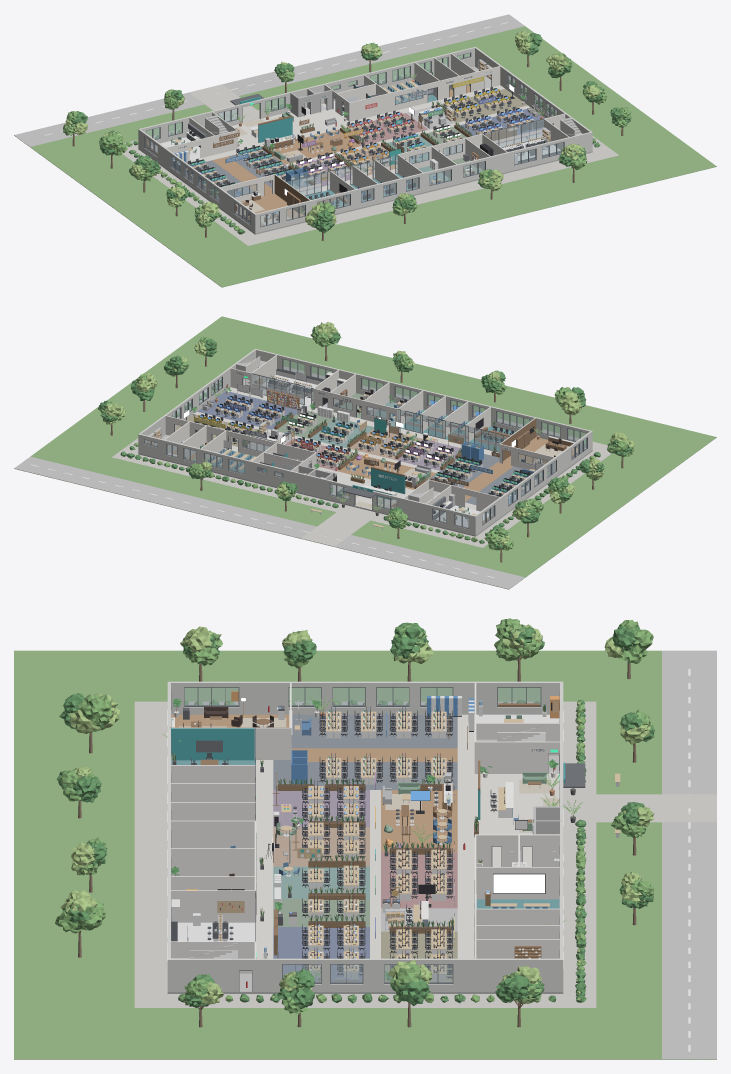
Rendered from office.glb.
3 renders of one model, top to bottom at view 1: azimuth 30°, elevation 25°; view 2: azimuth 150°, elevation 25°; view 3: azimuth 270°, elevation 25°, orthographic. The views are drawn at different scales.
Visible parts, largest first — view 1: Site_grass, Exterior_Walls_wall_ext, Site_concrete, Site_paving, Exterior_Walls_glass, Site_tree_dark, Floor_floor_polished, Site_tree_light, Site_tree_mid, Exterior_Walls_frame, Partitions_wall, Floor_wood_floor (+26 smaller); view 2: Site_grass, Exterior_Walls_wall_ext, Site_concrete, Site_paving, Site_tree_dark, Exterior_Walls_glass, Partitions_wall, Site_tree_mid, Site_tree_light, Exterior_Walls_frame, Floor_floor_polished, Floor_wood_floor (+26 smaller); view 3: Site_grass, Site_paving, Site_concrete, Exterior_Walls_wall_ext, Partitions_wall, Floor_floor_polished, Site_tree_dark, Site_tree_mid, Site_tree_light, Floor_carpet, Exterior_Walls_glass, Floor_wood_floor (+33 smaller).
Boxes of the visible parts, x1,y1,x2,y2 form: Site_grass: (14,26,716,287); Exterior_Walls_wall_ext: (138,47,592,233); Site_concrete: (14,14,524,146); Site_paving: (122,64,618,245); Exterior_Walls_glass: (145,53,563,226); Site_tree_dark: (66,33,631,234); Floor_floor_polished: (187,85,543,195); Site_tree_light: (65,31,623,231); Site_tree_mid: (63,35,631,230); Exterior_Walls_frame: (144,52,564,227); Partitions_wall: (275,119,568,202); Floor_wood_floor: (212,86,470,225); Site_grass: (14,316,716,589); Exterior_Walls_wall_ext: (138,349,592,535); Site_concrete: (14,456,524,588); Site_paving: (112,366,611,547); Site_tree_dark: (98,326,633,548); Exterior_Walls_glass: (144,359,586,527); Partitions_wall: (252,355,535,462); Site_tree_mid: (100,327,634,550); Site_tree_light: (104,322,634,545); Exterior_Walls_frame: (144,358,587,528); Floor_floor_polished: (196,387,499,509); Floor_wood_floor: (173,437,577,501); Site_grass: (14,650,716,1059); Site_paving: (134,701,716,1007); Site_concrete: (662,650,716,1059); Exterior_Walls_wall_ext: (167,681,563,991); Partitions_wall: (171,727,290,973); Floor_floor_polished: (256,714,559,958); Site_tree_dark: (56,622,654,1008); Site_tree_mid: (55,618,654,1014); Site_tree_light: (60,624,654,1004); Floor_carpet: (273,714,457,789); Exterior_Walls_glass: (184,687,540,982); Floor_wood_floor: (171,714,457,852).
Bounding box in the file's own units: 88 × 6.64 × 64.
